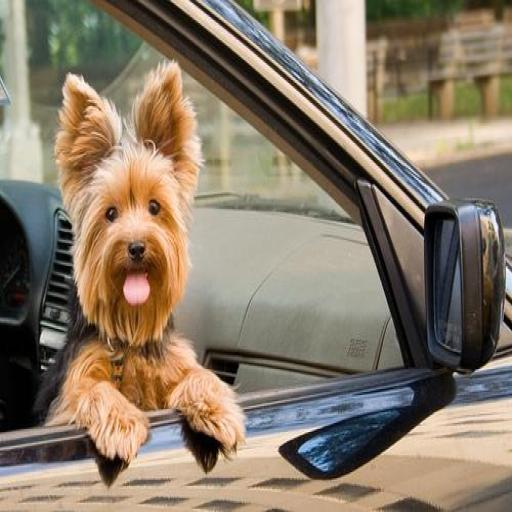dog_face: (54, 69, 188, 337)
